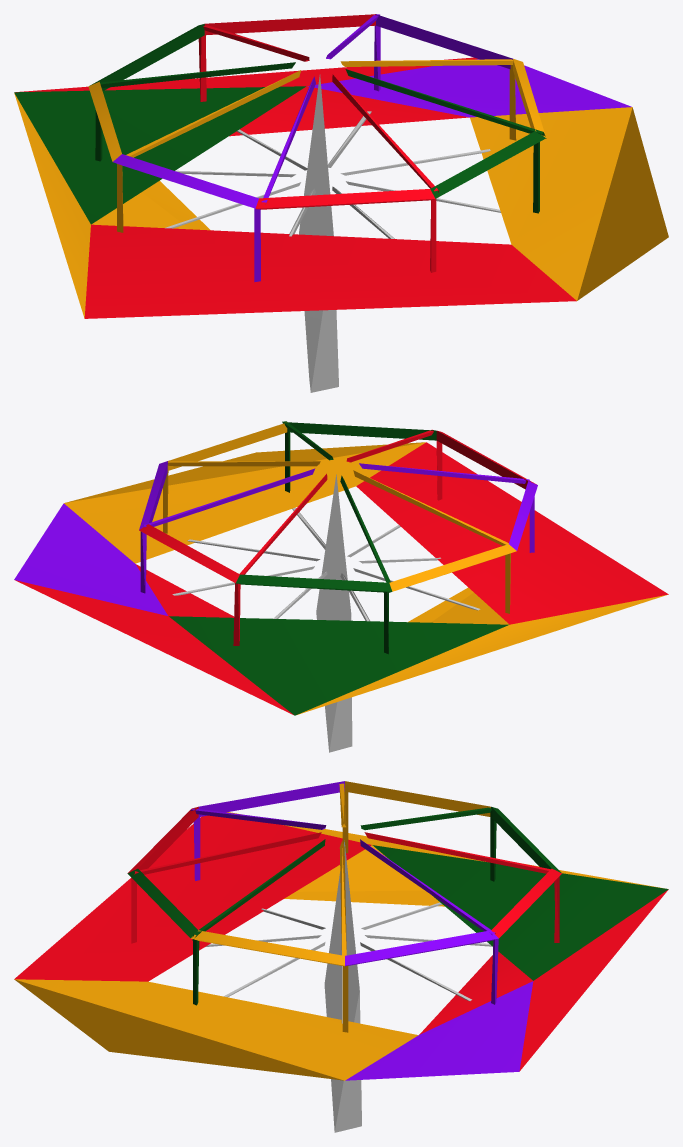
File: GiraGiraLOD1.fbx
The picture shows the model from 3 angles, top to bottom: view 1: azimuth 30°, elevation 25°; view 2: azimuth 150°, elevation 25°; view 3: azimuth 270°, elevation 25°; orthographic projection. The views are drawn at different scales.
Parts seen in each view (by area): view 1: BrinquedoGiraGiraLOD1; view 2: BrinquedoGiraGiraLOD1; view 3: BrinquedoGiraGiraLOD1.
Part boxes in pixels (box(x1,y1,x2,y2)): BrinquedoGiraGiraLOD1: box(14, 14, 668, 392); BrinquedoGiraGiraLOD1: box(14, 421, 668, 752); BrinquedoGiraGiraLOD1: box(14, 781, 668, 1132).
Bounding box in the file's own units: 222 × 110 × 222.
